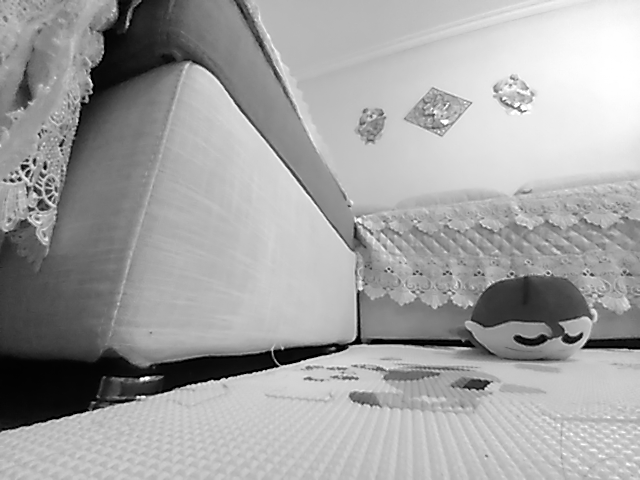toy: (464, 275, 600, 362)
